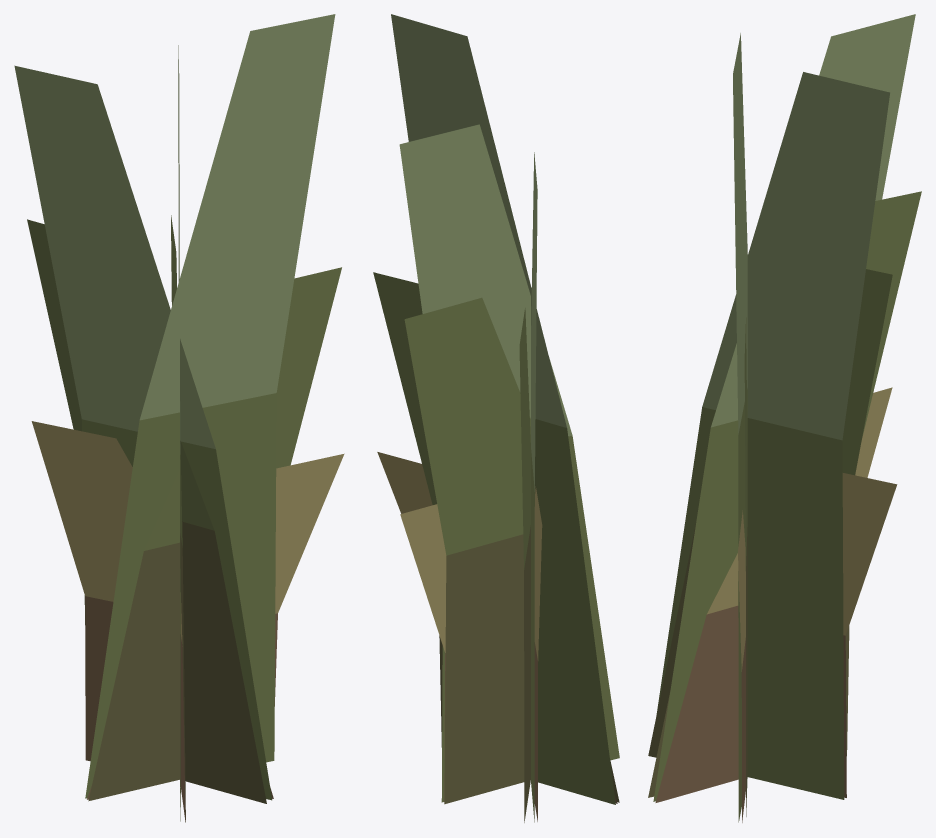
Rendered from GrassClumps.fbx.
The picture shows the model from 3 angles, left to right: view 1: azimuth 30°, elevation 25°; view 2: azimuth 150°, elevation 25°; view 3: azimuth 270°, elevation 25°; orthographic projection. The views are drawn at different scales.
Visible parts, largest first — view 1: GrassClump_03, GrassClump_02, GrassClump_01; view 2: GrassClump_03, GrassClump_02, GrassClump_01; view 3: GrassClump_03, GrassClump_01, GrassClump_02.
Boxes of the visible parts, <box> form: GrassClump_03: <box>14,14,335,821</box>; GrassClump_02: <box>27,215,341,822</box>; GrassClump_01: <box>31,421,344,821</box>; GrassClump_03: <box>391,14,619,822</box>; GrassClump_02: <box>373,272,619,822</box>; GrassClump_01: <box>377,452,617,821</box>; GrassClump_03: <box>653,14,915,822</box>; GrassClump_01: <box>655,387,897,822</box>; GrassClump_02: <box>648,191,921,816</box>.
Size of the model in its own units: 0.3054 by 0.8515 by 0.2712.
Materials: 1 (1 with a texture image).
